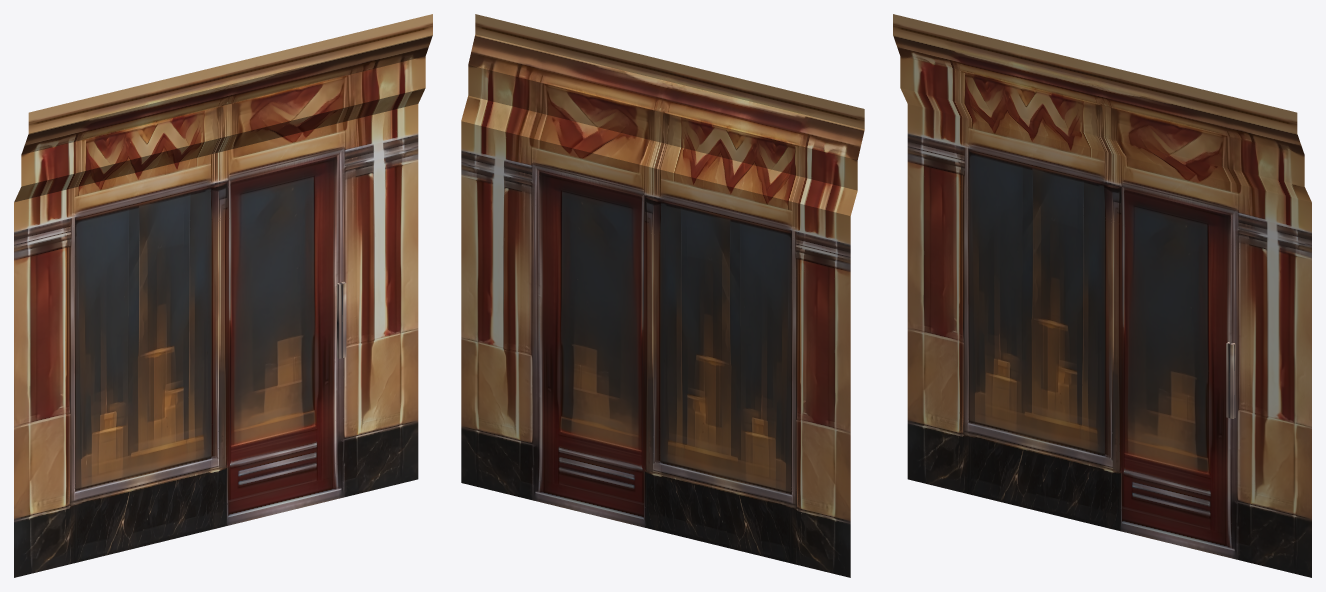
Rendered from DECO_G_Bay4A.fbx.
3 views of the same model, side by side, from view 1: azimuth 30°, elevation 25°; view 2: azimuth 150°, elevation 25°; view 3: azimuth 330°, elevation 25° (orthographic). The views are drawn at different scales.
Visible parts, largest first — view 1: DECO_G_Bay4A; view 2: DECO_G_Bay4A; view 3: DECO_G_Bay4A.
Boxes of the visible parts, x1=… form: DECO_G_Bay4A: x1=14, y1=14, x2=432, y2=577; DECO_G_Bay4A: x1=461, y1=14, x2=864, y2=577; DECO_G_Bay4A: x1=893, y1=14, x2=1311, y2=577.
Bounding box in the file's own units: 4 × 0.25 × 4.5.
1 material, 1 textured.
